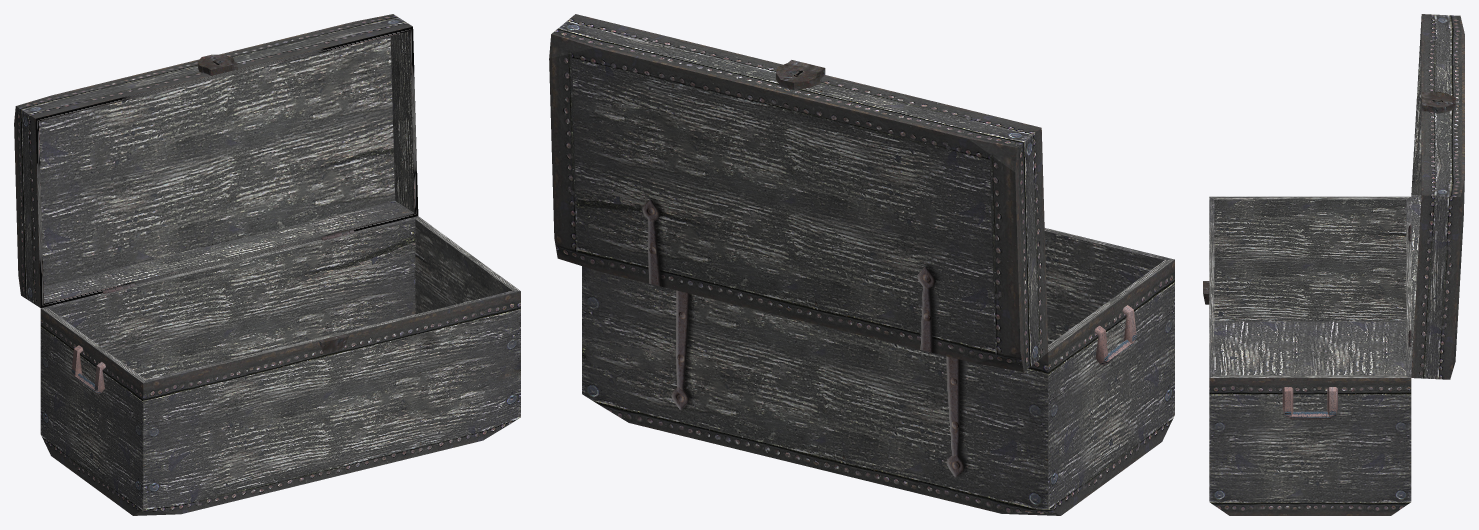
File: lockbox_open.fbx
The picture shows the model from 3 angles, left to right: view 1: azimuth 30°, elevation 25°; view 2: azimuth 150°, elevation 25°; view 3: azimuth 270°, elevation 25°; orthographic projection. The views are drawn at different scales.
Parts seen in each view (by area): view 1: box_base, box_lid; view 2: box_lid, box_base; view 3: box_base, box_lid.
Part boxes in pixels (x1,y1,x2,y2): box_base: [40, 216, 520, 515]; box_lid: [14, 14, 418, 307]; box_lid: [549, 14, 1048, 372]; box_base: [582, 228, 1174, 515]; box_base: [1203, 196, 1411, 515]; box_lid: [1411, 14, 1464, 379].
Bounding box in the file's own units: 1.38 × 1.11 × 0.8084.
